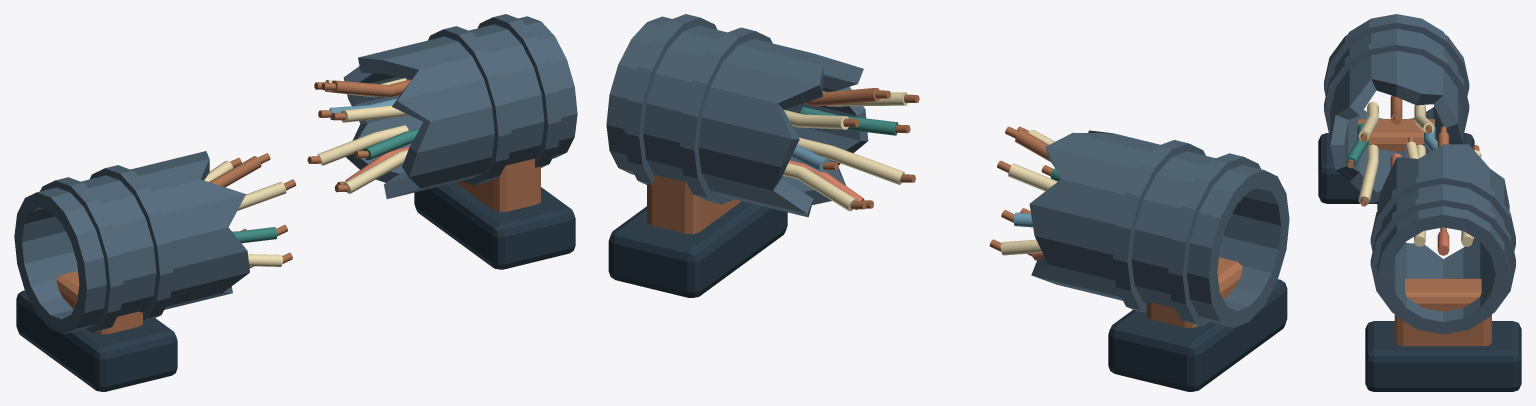
3 renders of one model, left to right at view 1: azimuth 30°, elevation 25°; view 2: azimuth 150°, elevation 25°; view 3: azimuth 270°, elevation 25°, orthographic. The views are drawn at different scales.
Parts seen in each view (by area): view 1: PR102 enamel and hardware; view 2: PR102 enamel and hardware; view 3: PR102 enamel and hardware.
Boxes of the visible parts, box(x1,y1,x2,y2) form: PR102 enamel and hardware: box(14, 14, 577, 391); PR102 enamel and hardware: box(606, 14, 1289, 391); PR102 enamel and hardware: box(1318, 14, 1521, 391).
Size of the model in its own units: 1.5 by 0.576 by 0.5625.
